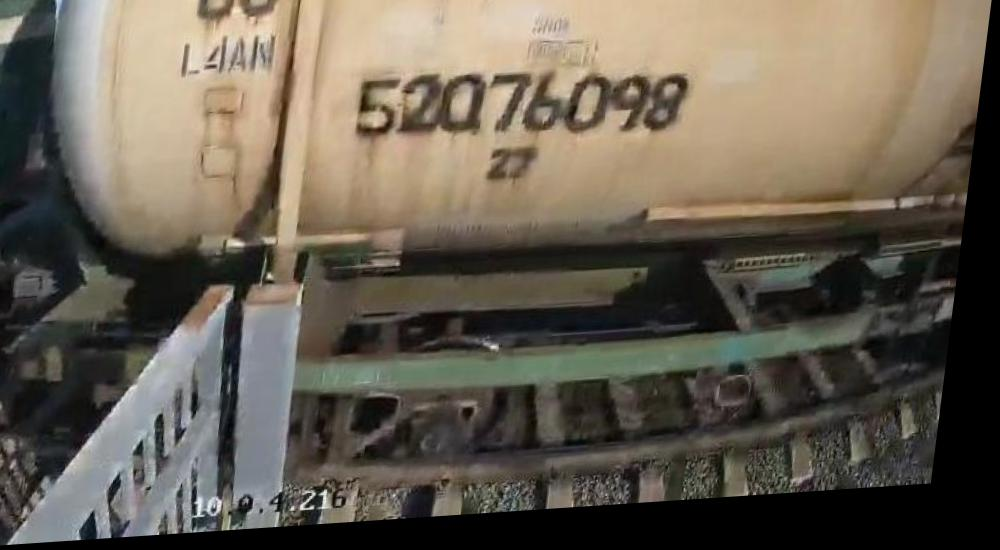Wagon-number: (350, 64, 700, 163)
